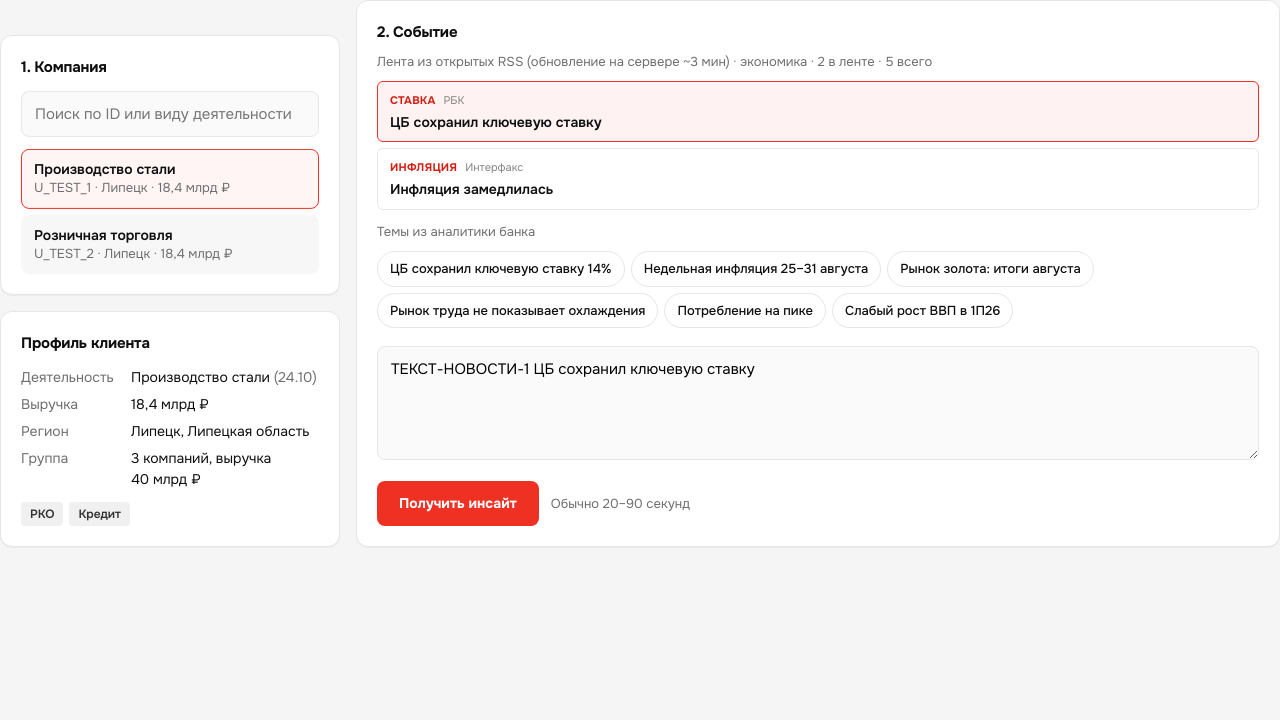
Test: Workspace › clears the previous insight when another company is selected
This screenshot has width=1280, height=720.
Check: the text "Производство стали" is shown, box [34, 160, 176, 178]
Click the button "Получить инсайт": {"x": 458, "y": 503} [377, 481, 539, 526]
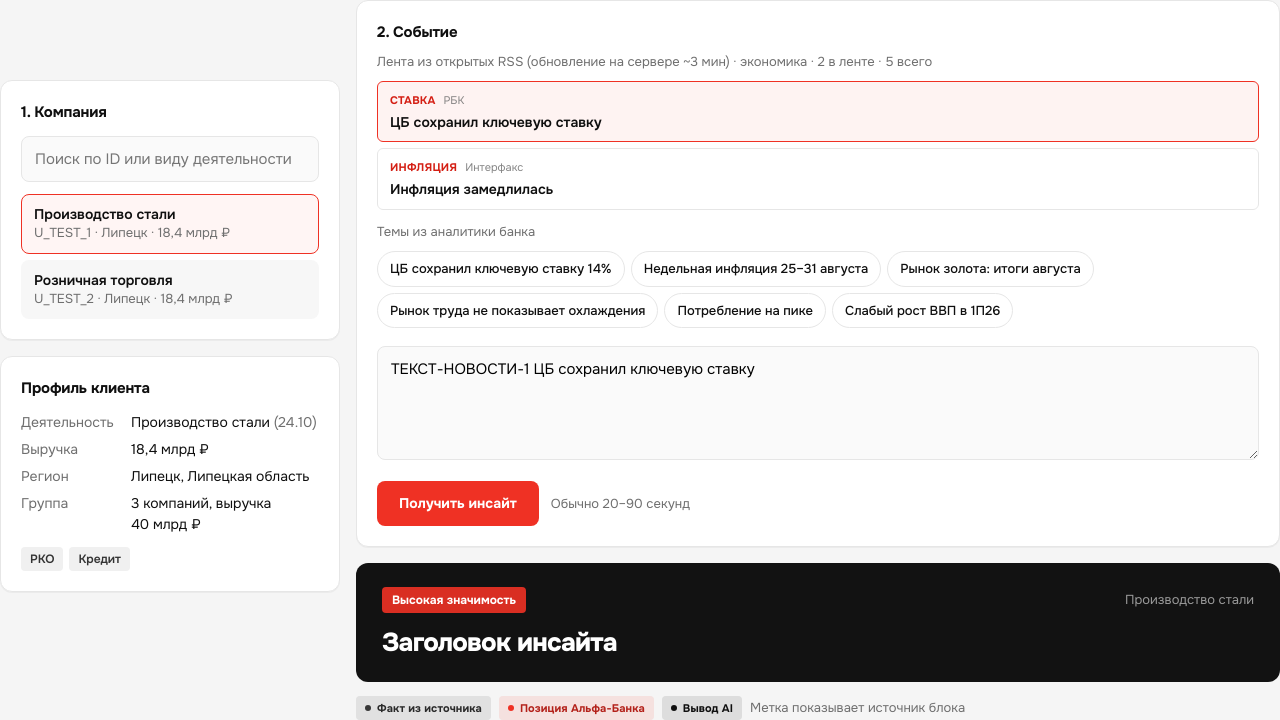
Check: the heading "Заголовок инсайта" is shown, box [382, 626, 617, 659]
Click the text "Розничная торговля": {"x": 103, "y": 280} [34, 271, 172, 289]
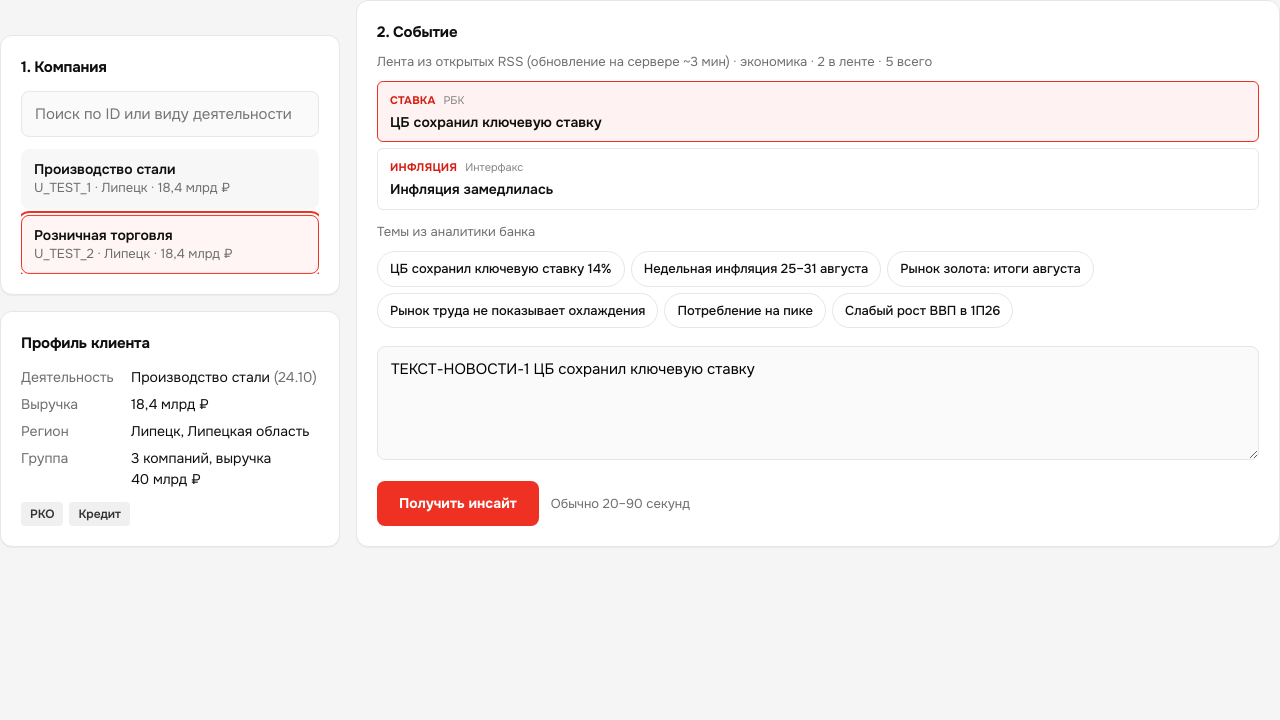
Check: the heading "Заголовок инсайта" is gone
